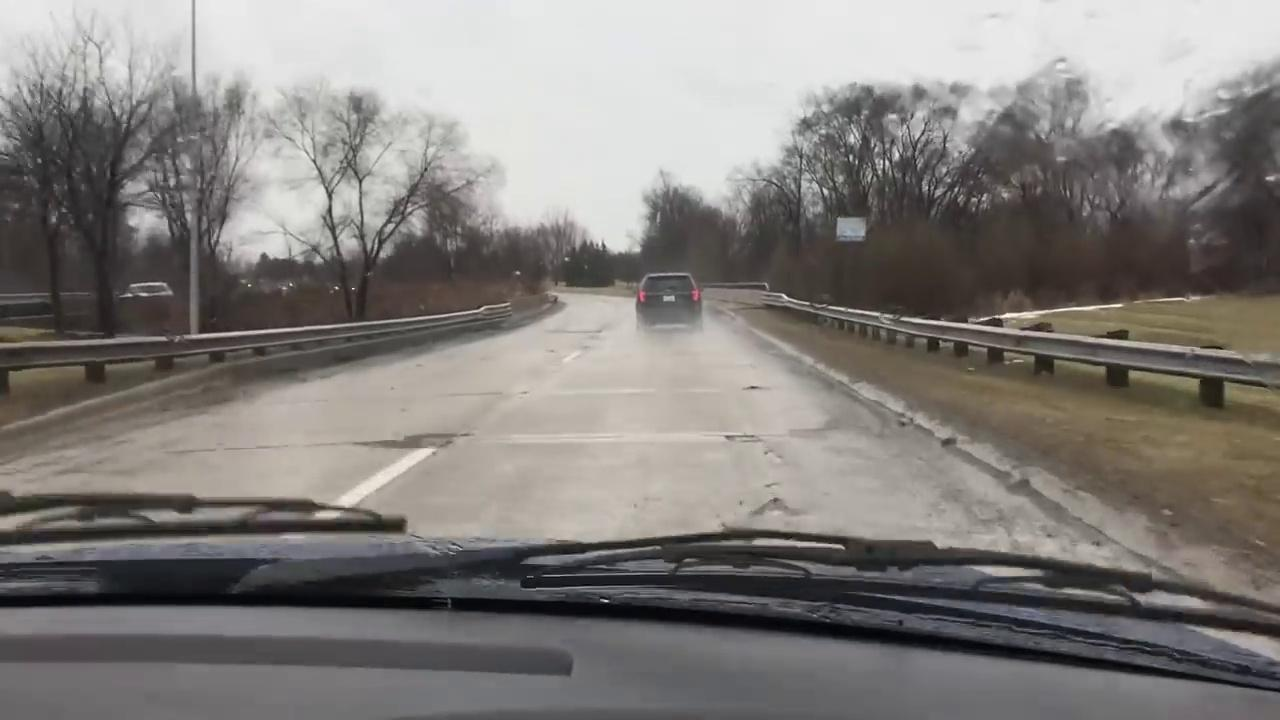pothole: (365, 431, 471, 453)
